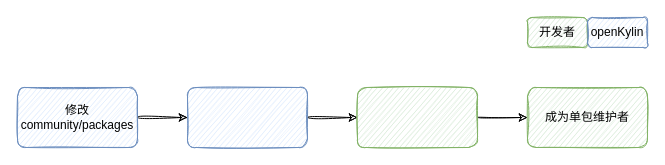
The diagram is 665 pixels wide and 165 high, and some of its shapes have lost their labels. Each missing label, with the centre of its shape:
审核通过: point 417,117
提交PR，等待管理员审核: point 247,117
